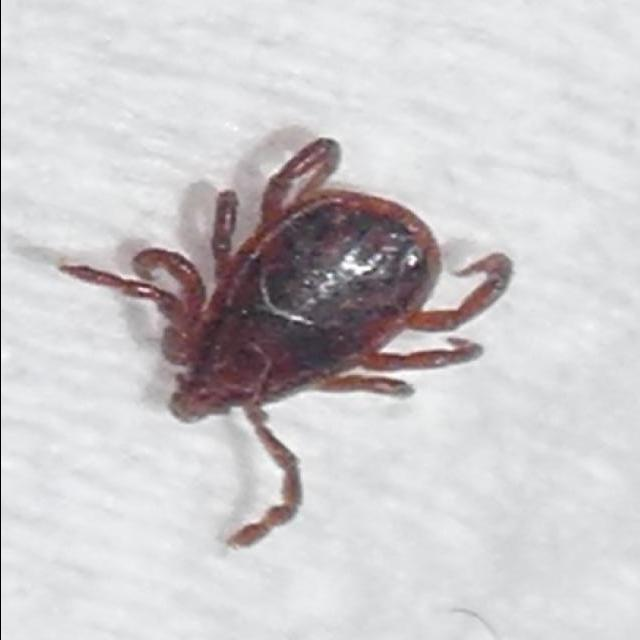Rhipicephalus Sanguineus-M: (59, 136, 514, 548)
